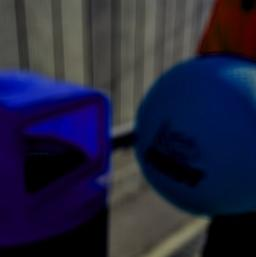algae: (128, 48, 256, 216)
